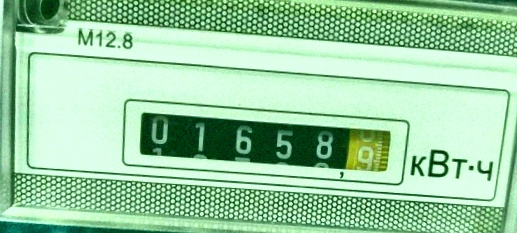0: (148, 113, 170, 144)
1: (190, 119, 209, 152)
5: (272, 126, 295, 159)
6: (232, 121, 254, 155)
8: (313, 126, 335, 159)
9: (352, 143, 375, 172)
screen: (110, 89, 415, 192)
